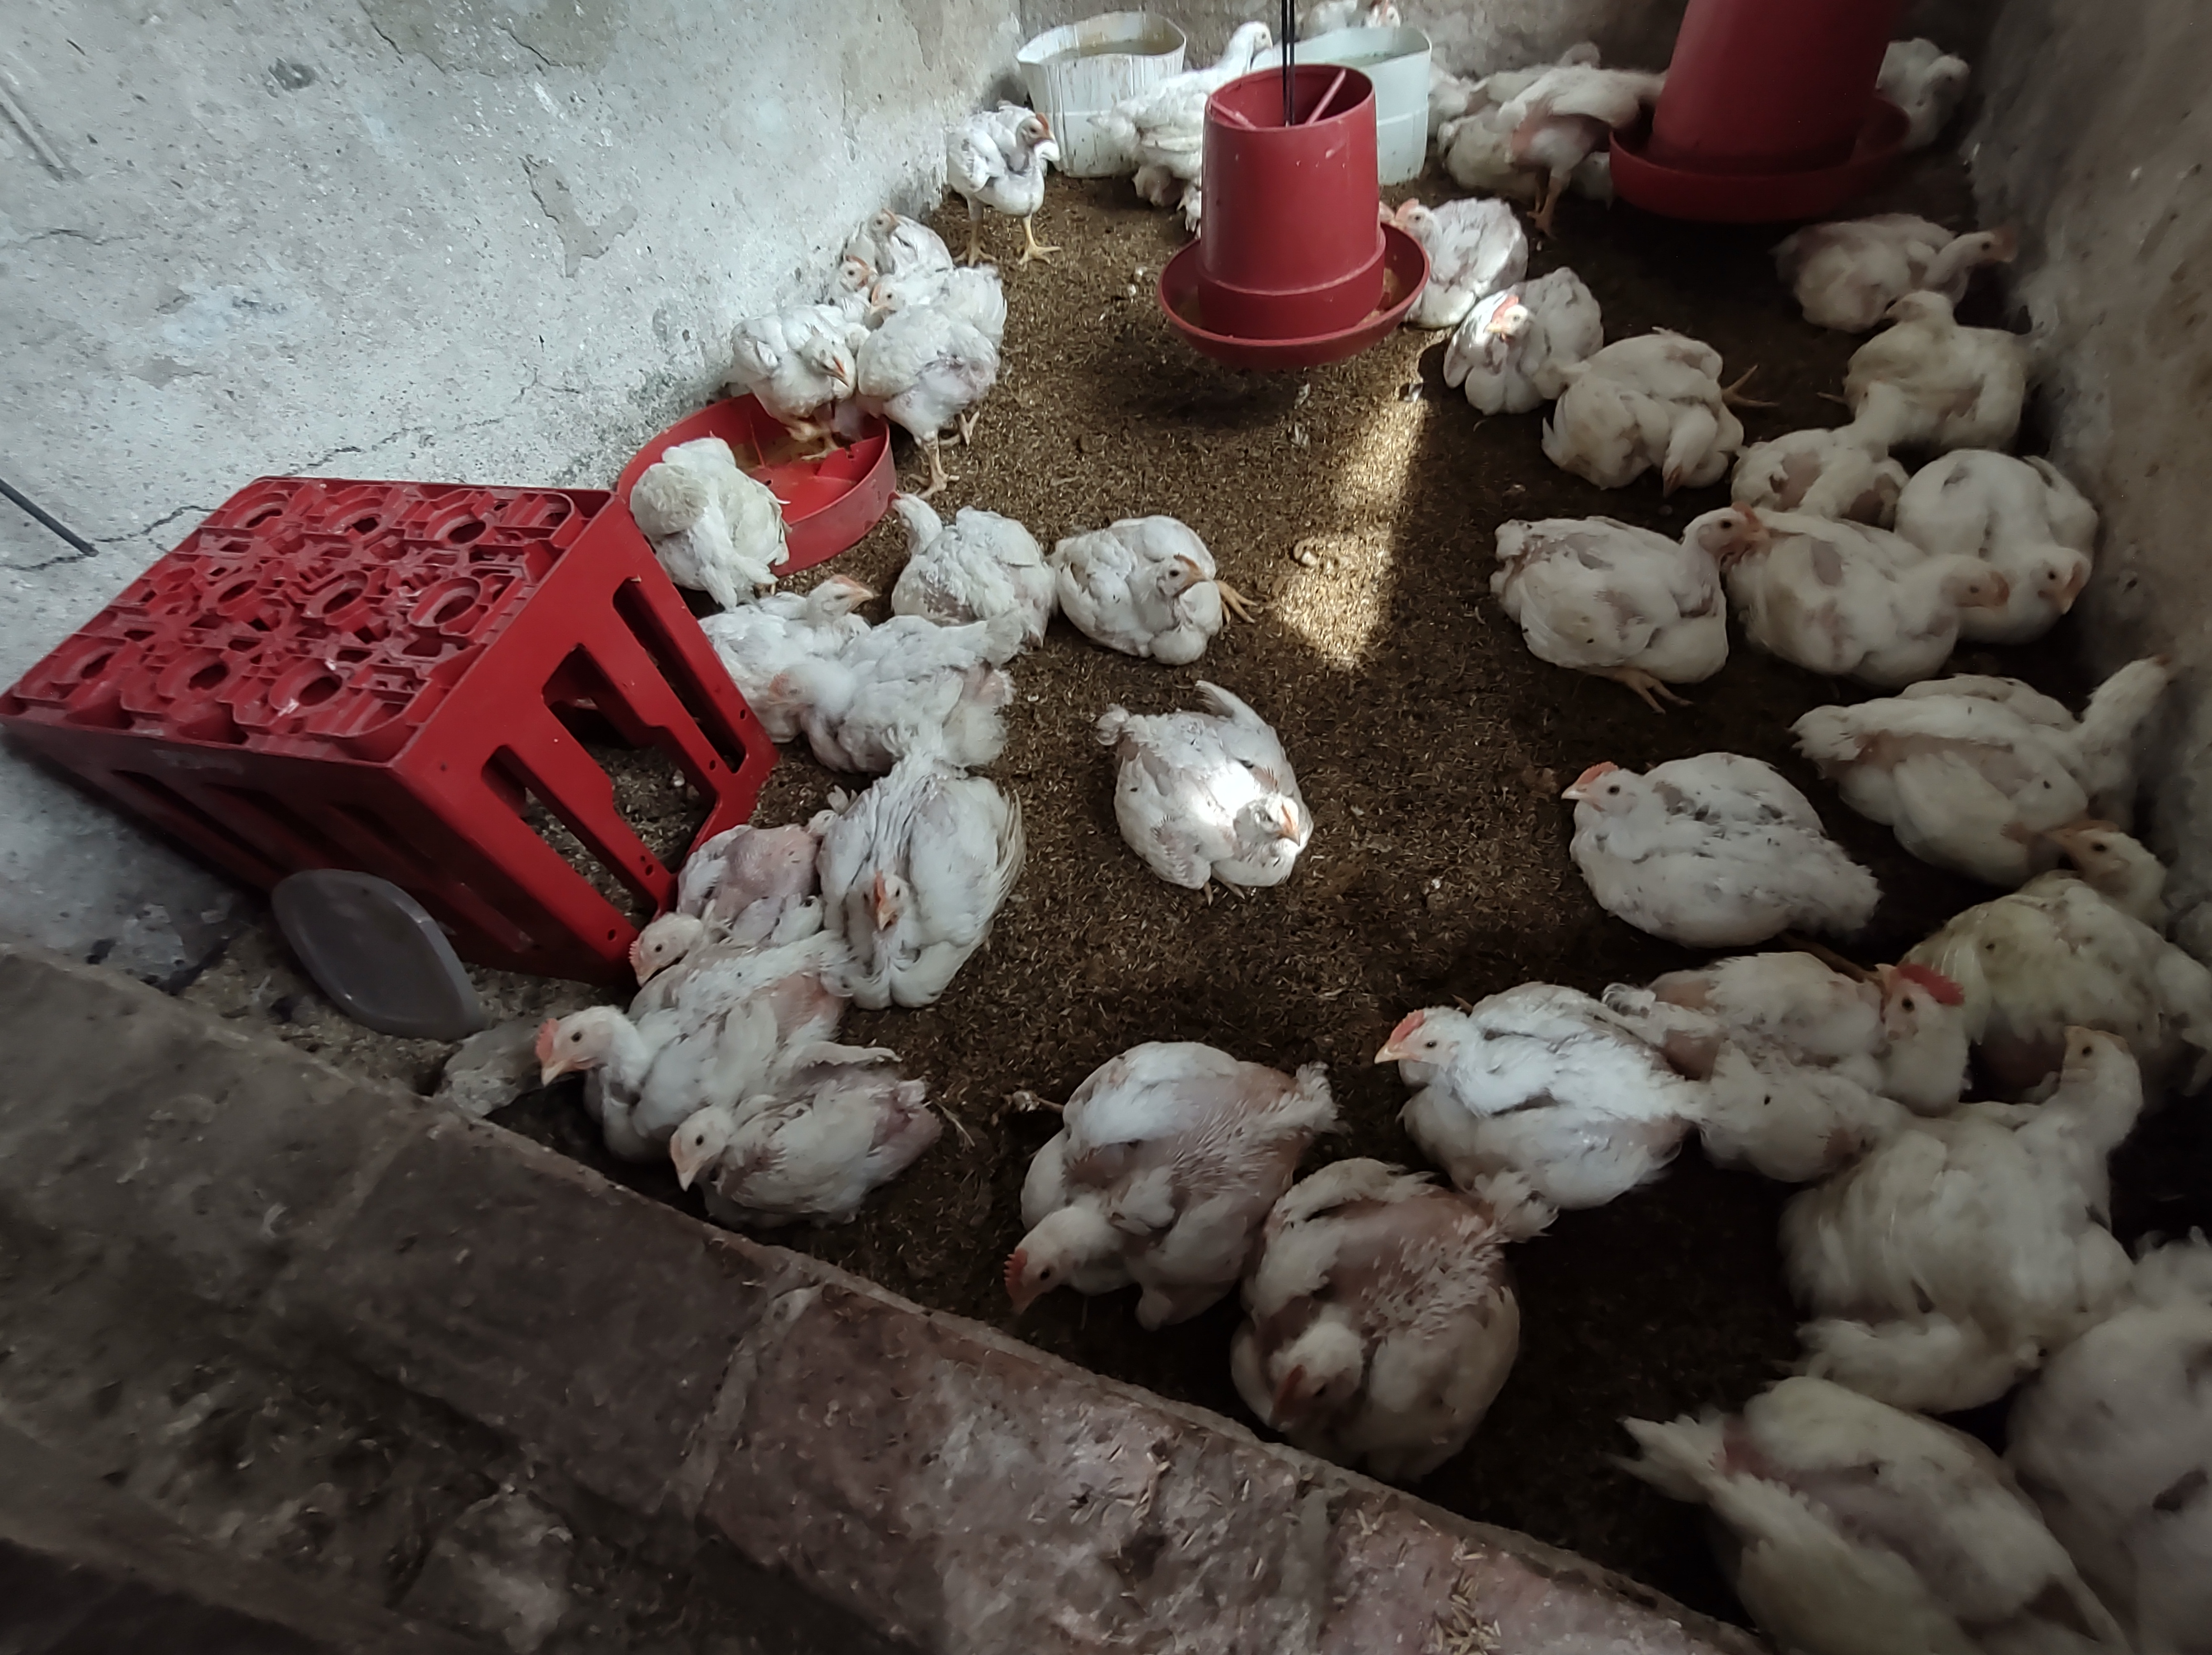Pollos: (1360, 977, 1643, 1208), (1233, 1177, 1489, 1422), (995, 1062, 1233, 1319), (1560, 732, 1840, 949), (1657, 960, 1981, 1139), (1862, 643, 2175, 814), (819, 765, 1010, 1008), (1989, 1017, 2139, 1314), (1765, 511, 2022, 681), (1506, 502, 1762, 673), (1970, 814, 2186, 1001), (1109, 692, 1318, 885), (659, 1060, 916, 1193), (1537, 327, 1739, 476), (619, 827, 796, 989), (770, 643, 1010, 760), (1122, 16, 1278, 179), (875, 487, 1045, 635), (1064, 516, 1229, 654), (1756, 369, 1911, 506), (1497, 40, 1657, 170), (1795, 200, 2022, 273), (1449, 276, 1584, 398), (1889, 287, 2022, 403), (943, 96, 1063, 224), (523, 993, 673, 1090), (699, 563, 863, 652), (2022, 449, 2102, 622), (729, 325, 859, 422), (1391, 181, 1523, 268), (878, 259, 1016, 341), (1878, 30, 1969, 137), (831, 205, 943, 269)
